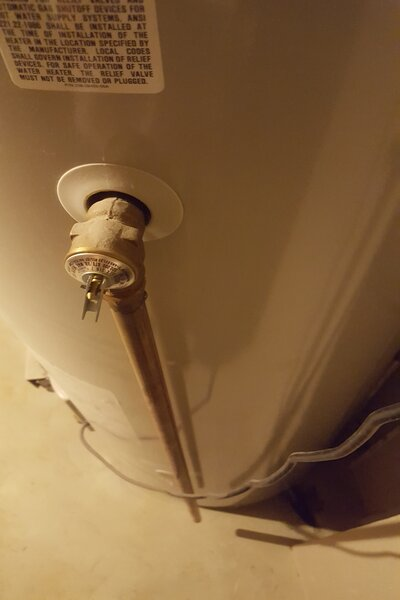valve: (63, 190, 150, 332)
